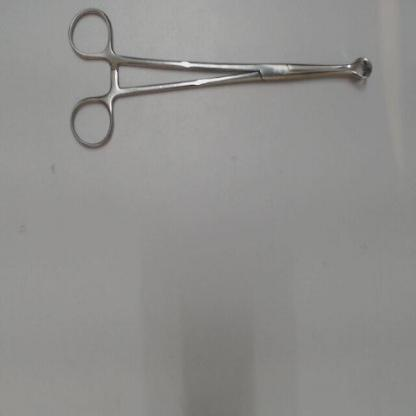8 Babcock Tissue Forceps: (67, 3, 378, 157)
